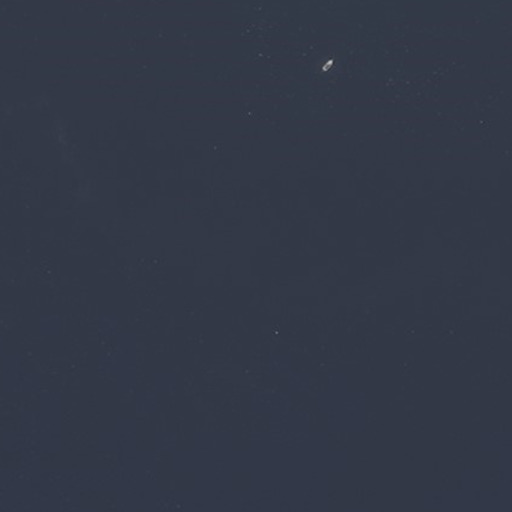ship: (319, 56, 337, 74)
